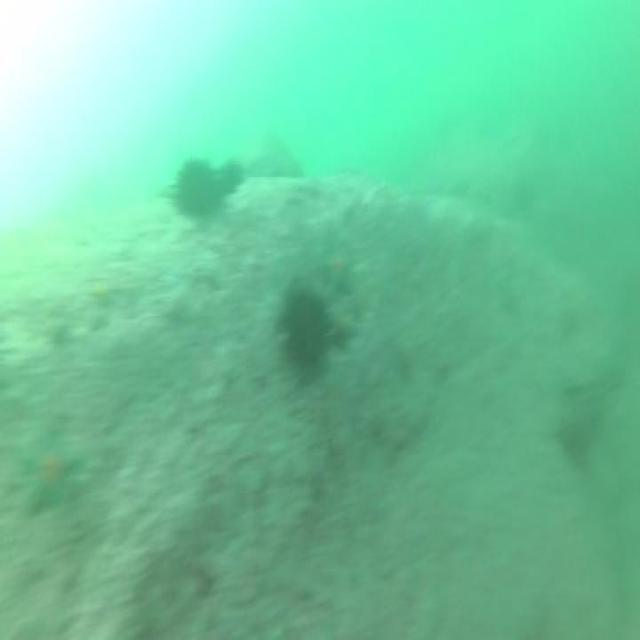echinus: (276, 283, 334, 378), (175, 153, 219, 228), (217, 156, 247, 198)
starfish: (18, 419, 82, 520), (319, 240, 360, 294)
